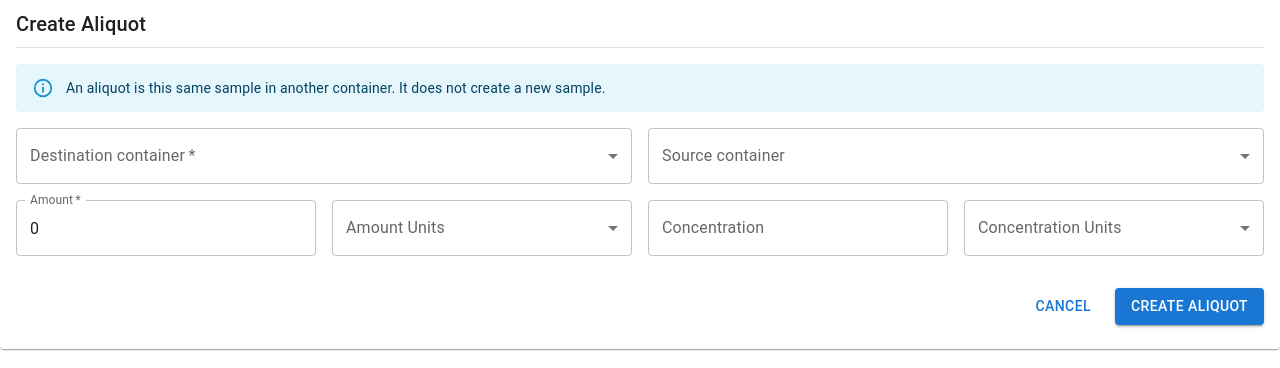
Test: AliquotForm › shows loading state during submission
Expected: the number field labelled "Amount *" is shown, [16,200,316,256]
Click the dropdown named "Destination container" next to "Destination container" at (324, 156), box [16,128,632,184]
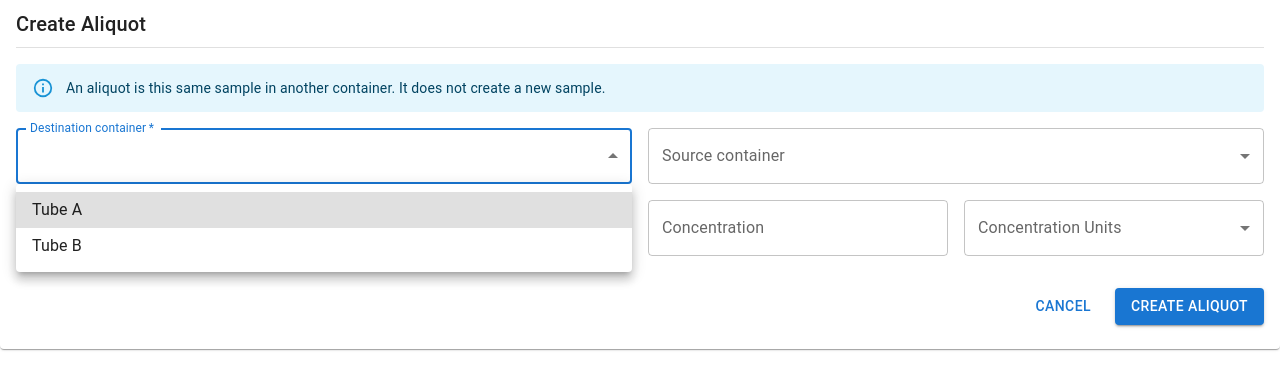
Click the option "Tube A" at (57, 210), box [16,192,632,228]
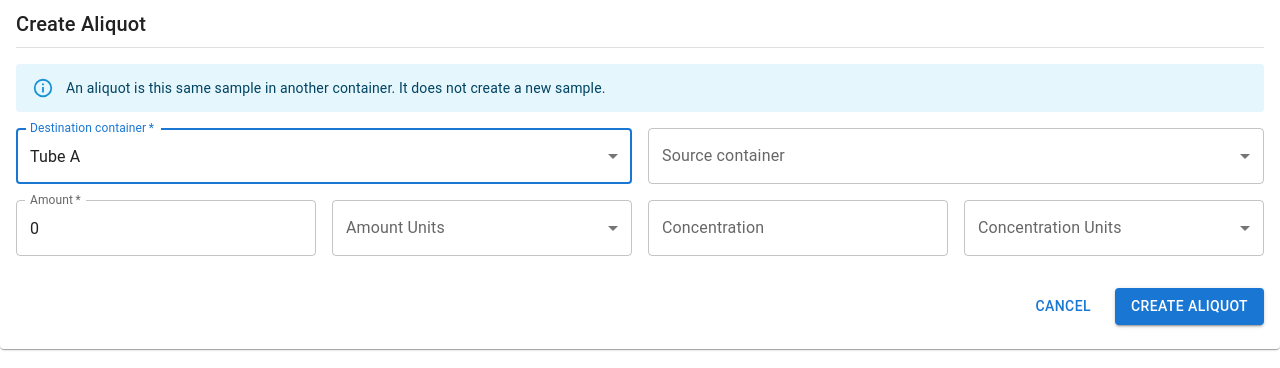
Replace the text in the number field labelled "Amount *" with "2" at (166, 228), box [16,200,316,256]
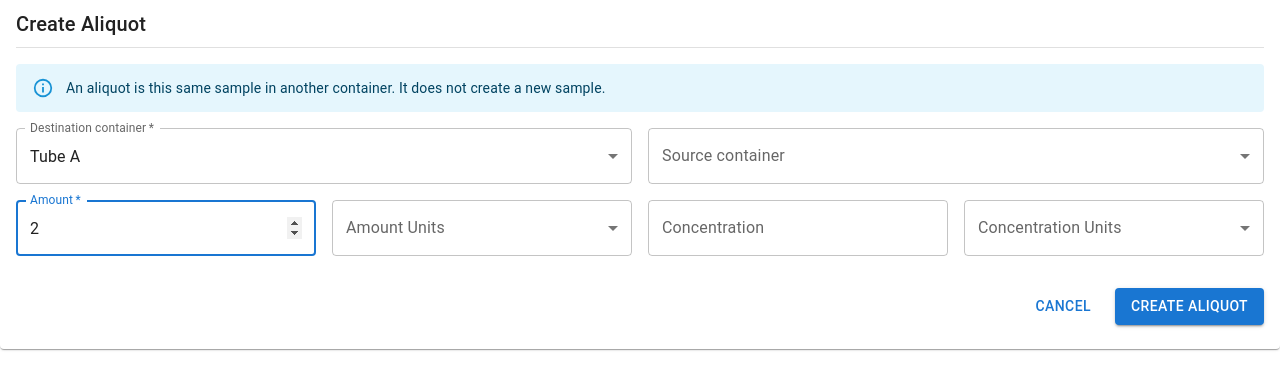
Click the button "Create Aliquot" at (1190, 306), box [1115,288,1264,324]
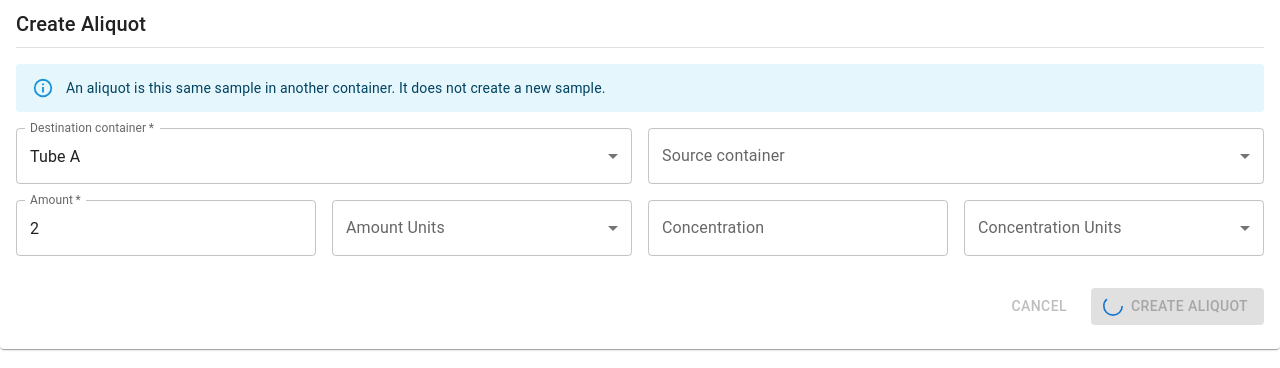
Result: the button "Create Aliquot" is disabled at [1091,288,1264,324]
